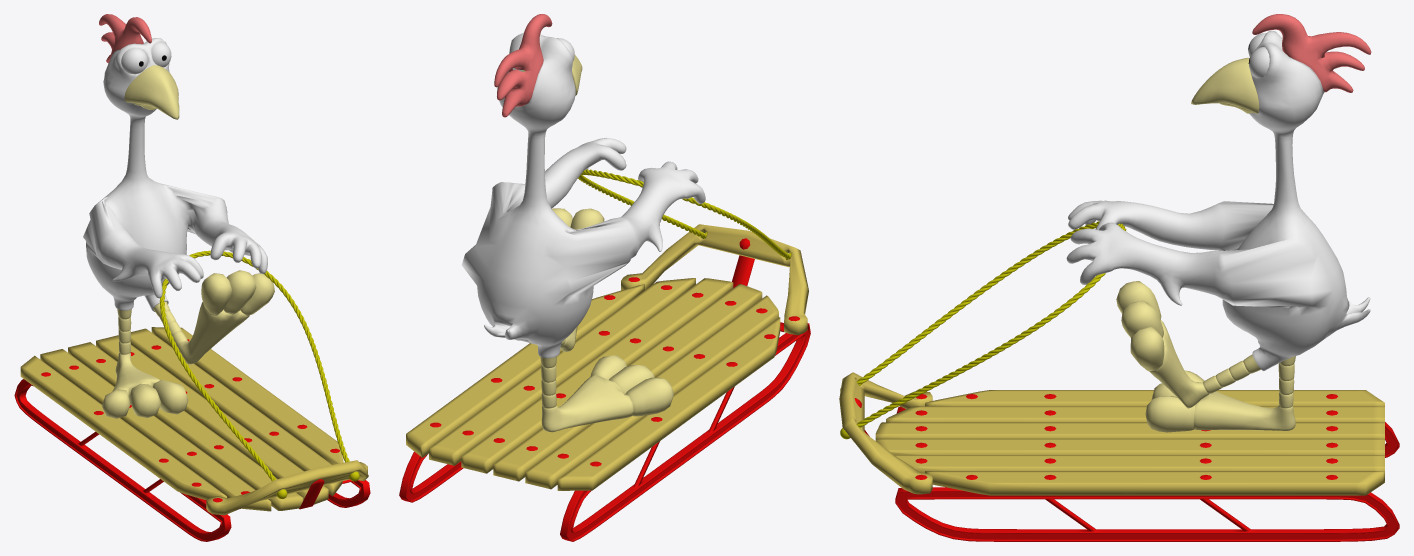
File: CHICKENSKI.fbx
3 views of the same model, side by side, from view 1: azimuth 30°, elevation 25°; view 2: azimuth 150°, elevation 25°; view 3: azimuth 270°, elevation 25° (orthographic). The views are drawn at different scales.
Parts seen in each view (by area): view 1: scrambler1, wood_Cube.001, rails_Cube.004, rope_Circle.002, rivets_Cube.011; view 2: wood_Cube.001, scrambler1, rails_Cube.004, rope_Circle.002, rivets_Cube.011; view 3: scrambler1, wood_Cube.001, rails_Cube.004, rope_Circle.002, rivets_Cube.011.
Part boxes in pixels (bbox=[...]): scrambler1: bbox=[83, 14, 274, 418]; wood_Cube.001: bbox=[20, 327, 368, 515]; rails_Cube.004: bbox=[14, 379, 370, 541]; rope_Circle.002: bbox=[159, 250, 349, 481]; rivets_Cube.011: bbox=[41, 339, 339, 502]; wood_Cube.001: bbox=[406, 224, 808, 490]; scrambler1: bbox=[462, 14, 705, 432]; rails_Cube.004: bbox=[399, 255, 810, 541]; rope_Circle.002: bbox=[578, 169, 791, 259]; rivets_Cube.011: bbox=[430, 238, 799, 466]; scrambler1: bbox=[1066, 14, 1371, 432]; wood_Cube.001: bbox=[839, 372, 1384, 495]; rails_Cube.004: bbox=[864, 406, 1399, 541]; rope_Circle.002: bbox=[856, 221, 1126, 427]; rivets_Cube.011: bbox=[854, 394, 1338, 479].
Bounding box in the file's own units: 310 × 746 × 780.
